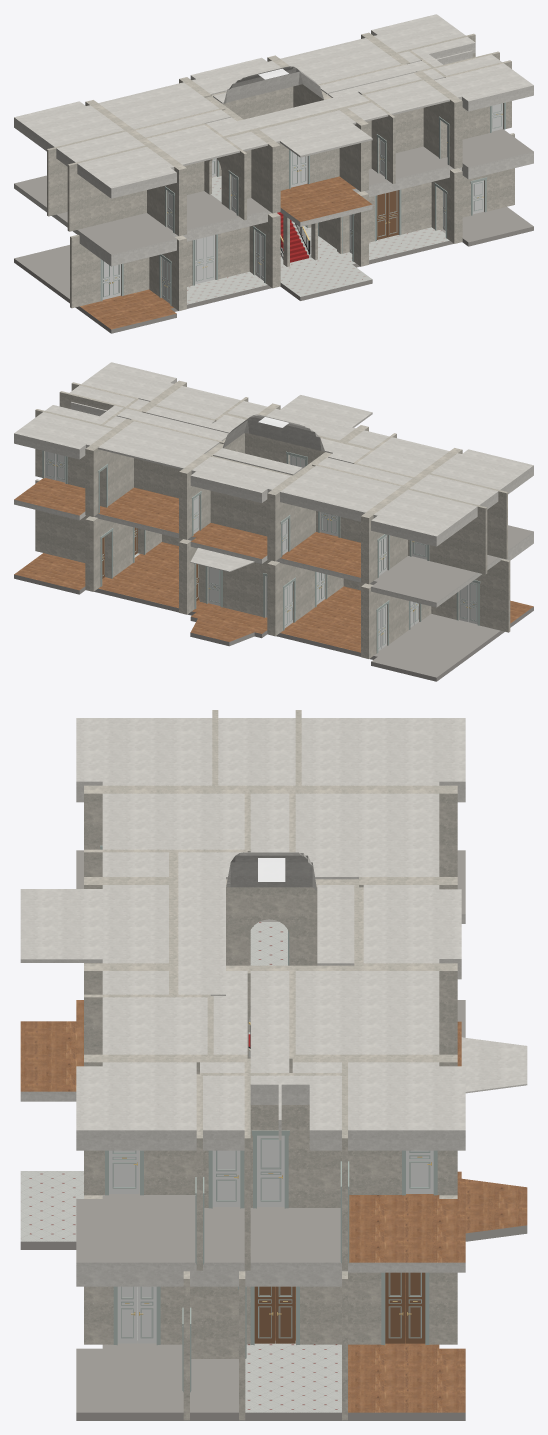
Rendered from coque.glb.
3 views of the same model, one above another, from view 1: azimuth 30°, elevation 25°; view 2: azimuth 150°, elevation 25°; view 3: azimuth 270°, elevation 25° (orthographic). The views are drawn at different scales.
Parts seen in each view (by area): view 1: plafond_etage_pavillon_no, plafond_etage_pavillon_so, plafond_chambre_3, mur_etage_pavillon_no_etage_bloc_ouest, sol_bibliotheque, plafond_salle_a_manger, plafond_bibliotheque, plafond_etage_pavillon_ne, sol_vestibule, sol_etage_pavillon_no, mur_piece_no_pavillon_so, sol_piece_no (+54 smaller); view 2: sol_pavillon_so, plafond_etage_pavillon_so, plafond_chambre_3, sol_billard, sol_salon_ouest, sol_etage_pavillon_so, plafond_salle_a_manger, plafond_chambre_1, plafond_chambre_2, plafond_etage_pavillon_no, sol_chambre_3, sol_salle_a_manger (+47 smaller); view 3: plafond_salle_a_manger, plafond_chambre_3, plafond_etage_pavillon_so, plafond_bibliotheque, plafond_etage_pavillon_ne, plafond_chambre_1, plafond_palier, plafond_etage_pavillon_no, sol_etage_pavillon_ne, sol_salon_vert, sol_chambre_1, sol_pavillon_ne (+57 smaller).
Part boxes in pixels (x1,y1,x2,y2): plafond_etage_pavillon_no: (77, 146, 176, 198); plafond_etage_pavillon_so: (14, 101, 123, 151); plafond_chambre_3: (98, 82, 219, 129); mur_etage_pavillon_no_etage_bloc_ouest: (67, 145, 150, 231); sol_bibliotheque: (280, 176, 372, 226); plafond_salle_a_manger: (280, 38, 401, 84); plafond_bibliotheque: (259, 110, 372, 157); plafond_etage_pavillon_ne: (422, 63, 533, 111); sol_vestibule: (280, 252, 372, 300); sol_etage_pavillon_no: (76, 213, 177, 258); mur_piece_no_pavillon_so: (70, 234, 149, 308); sol_piece_no: (79, 289, 177, 333); sol_pavillon_so: (370, 613, 501, 681); plafond_etage_pavillon_so: (371, 489, 477, 546); plafond_chambre_3: (280, 465, 401, 521); sol_billard: (94, 542, 199, 612); sol_salon_ouest: (276, 586, 360, 656); sol_etage_pavillon_so: (370, 556, 478, 606); plafond_salle_a_manger: (98, 421, 219, 469); plafond_chambre_1: (14, 412, 112, 459); plafond_chambre_2: (190, 456, 290, 502); plafond_etage_pavillon_no: (431, 449, 533, 494); sol_chambre_3: (276, 532, 360, 581); sol_salle_a_manger: (94, 487, 178, 537); plafond_salle_a_manger: (295, 971, 439, 1054); plafond_chambre_3: (295, 793, 439, 879); plafond_etage_pavillon_so: (301, 718, 465, 802); plafond_bibliotheque: (20, 885, 168, 963); plafond_etage_pavillon_ne: (76, 1062, 244, 1150); plafond_chambre_1: (348, 1062, 465, 1150); plafond_palier: (178, 852, 354, 995); plafond_etage_pavillon_no: (76, 718, 212, 802); sol_etage_pavillon_ne: (76, 1191, 199, 1271); sol_salon_vert: (345, 1341, 465, 1420); sol_chambre_1: (345, 1194, 465, 1271); sol_pavillon_ne: (76, 1341, 186, 1420).
Size of the model in its own units: 32.8 by 12.32 by 16.4.
Materials: 13 (5 with a texture image).
